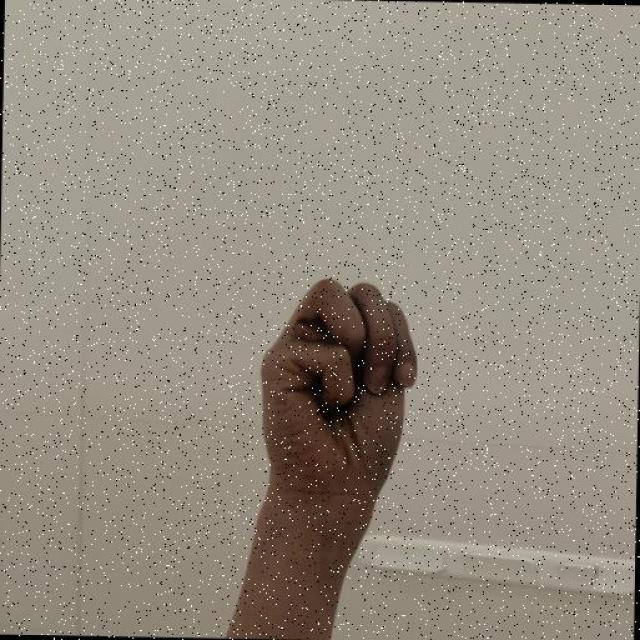M: (252, 272, 425, 503)
